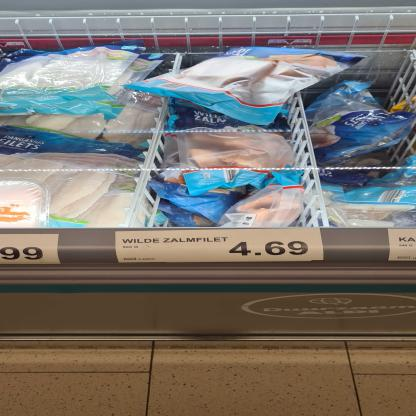prtg: (116, 229, 325, 265), (1, 234, 63, 264), (387, 229, 415, 262)
